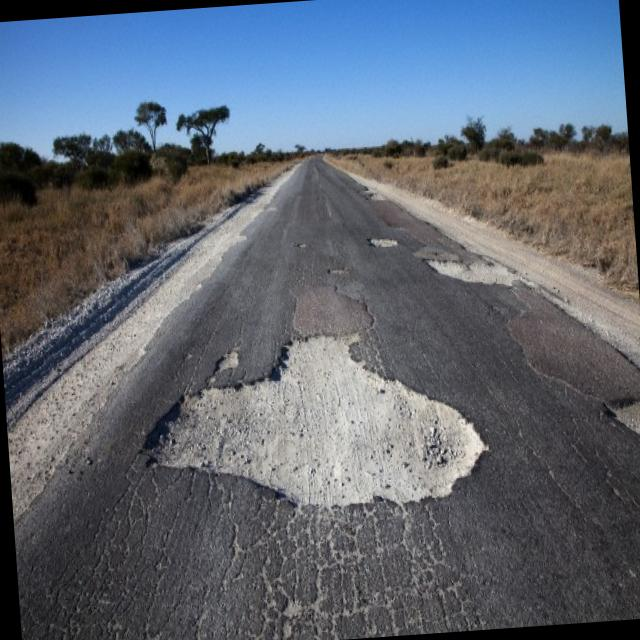Potholes: (131, 310, 506, 526), (424, 243, 522, 305), (593, 375, 640, 449), (359, 222, 410, 262)
